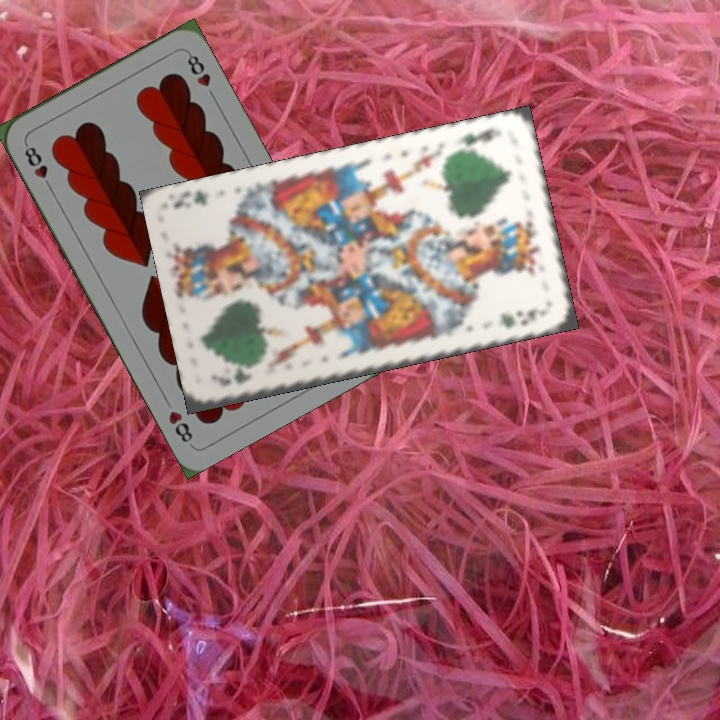GK: (452, 123, 504, 149), (215, 366, 254, 387)
H8: (20, 139, 56, 193)
